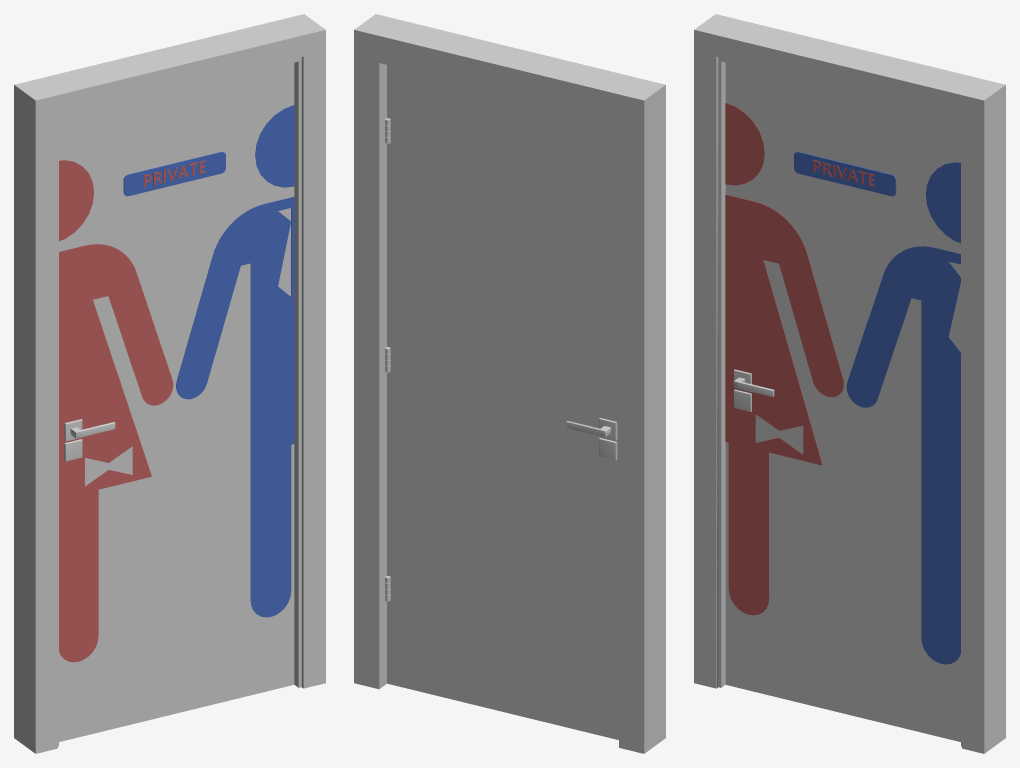
Rendered from Door.fbx.
3 views of the same model, side by side, from view 1: azimuth 30°, elevation 25°; view 2: azimuth 150°, elevation 25°; view 3: azimuth 330°, elevation 25° (orthographic).
Parts seen in each view (by area): view 1: Door_Center_Of_Rotation, Frame, Women_Icon, Man_Icon, Private_Icon; view 2: Door_Center_Of_Rotation, Frame; view 3: Door_Center_Of_Rotation, Frame, Women_Icon, Man_Icon, Private_Icon.
Boxes of the visible parts, x1=… form: Door_Center_Of_Rotation: x1=59, y1=63, x2=294, y2=741; Frame: x1=14, y1=14, x2=325, y2=753; Women_Icon: x1=59, y1=160, x2=173, y2=662; Man_Icon: x1=176, y1=105, x2=294, y2=617; Private_Icon: x1=123, y1=151, x2=225, y2=196; Door_Center_Of_Rotation: x1=385, y1=65, x2=618, y2=739; Frame: x1=354, y1=14, x2=665, y2=753; Door_Center_Of_Rotation: x1=725, y1=63, x2=960, y2=741; Frame: x1=694, y1=14, x2=1005, y2=753; Women_Icon: x1=725, y1=103, x2=843, y2=615; Man_Icon: x1=846, y1=162, x2=960, y2=664; Private_Icon: x1=794, y1=151, x2=896, y2=196.
Size of the model in its own units: 96.79 by 208 by 12.71.
